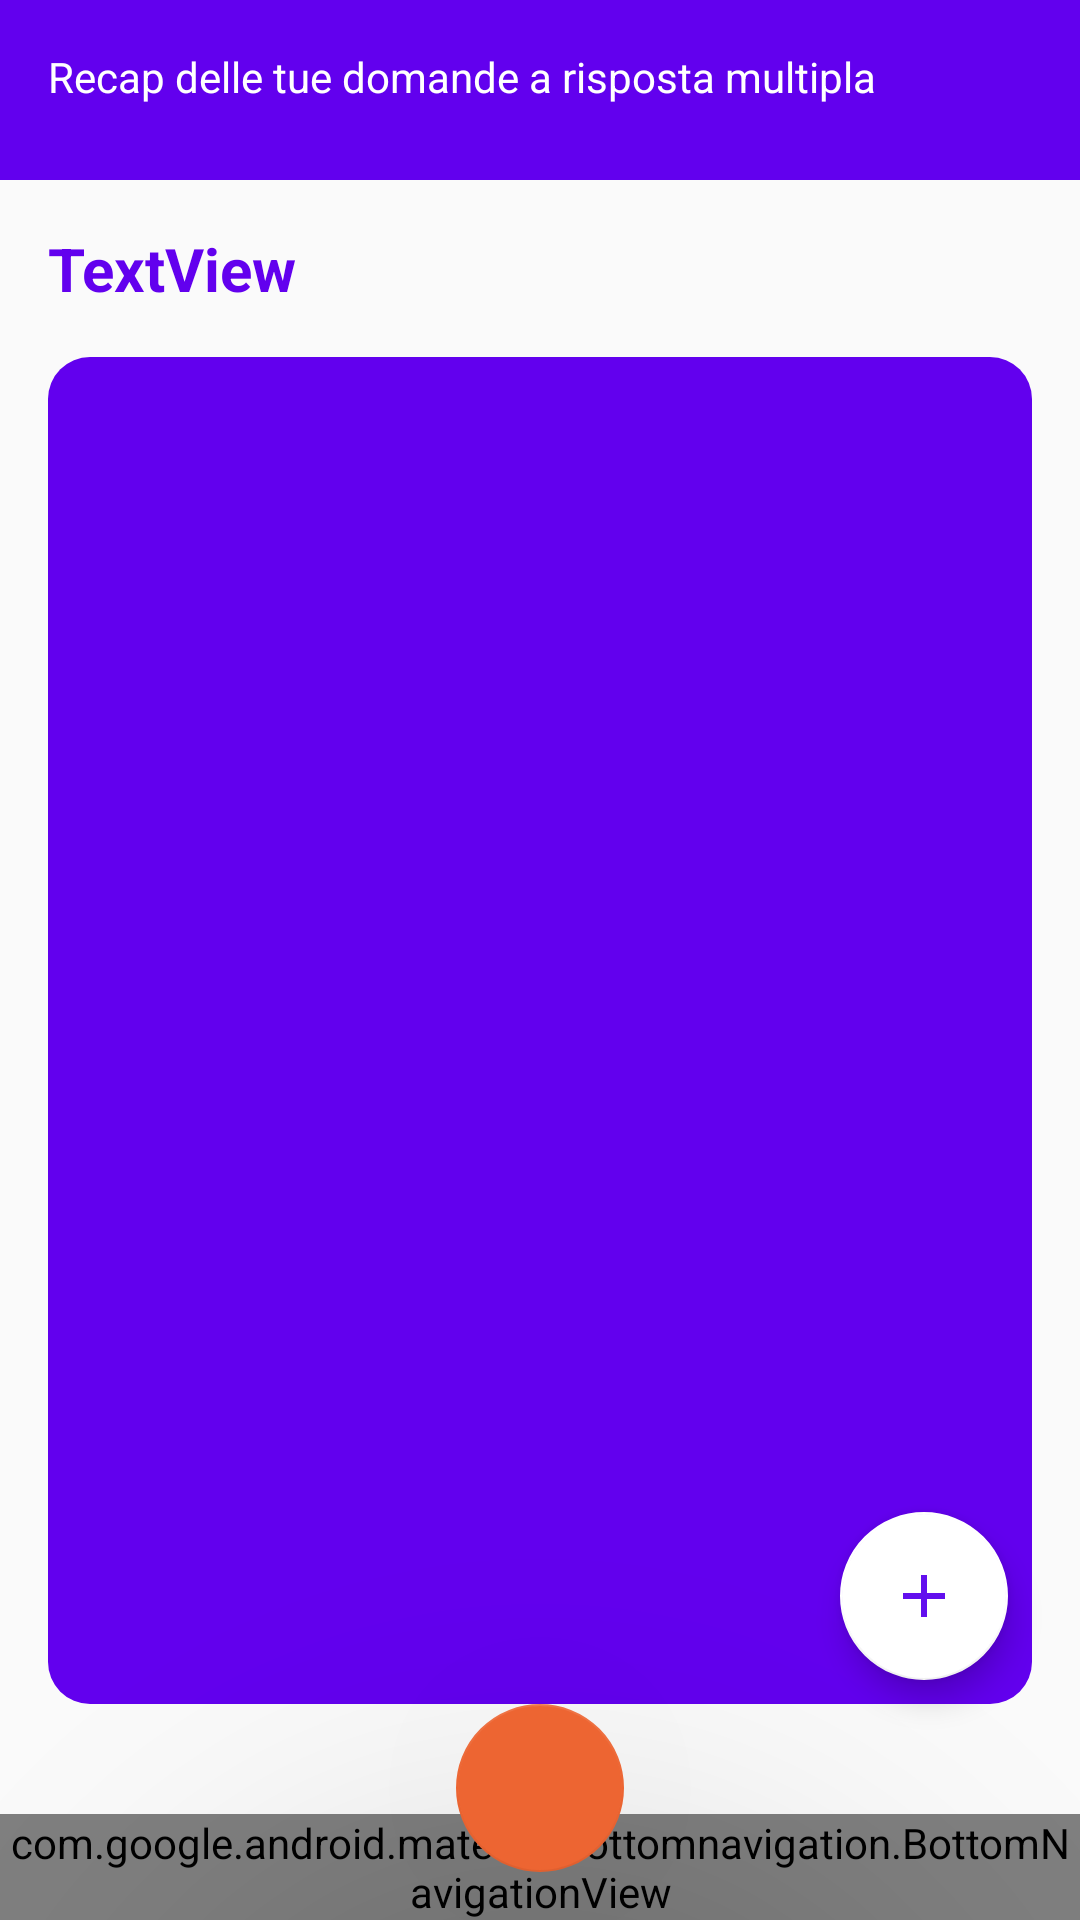

Icons on this 1080x1920 Android screen, each with its box as (x1, y1, x2, y2):
add: (840, 1512, 1008, 1680)
